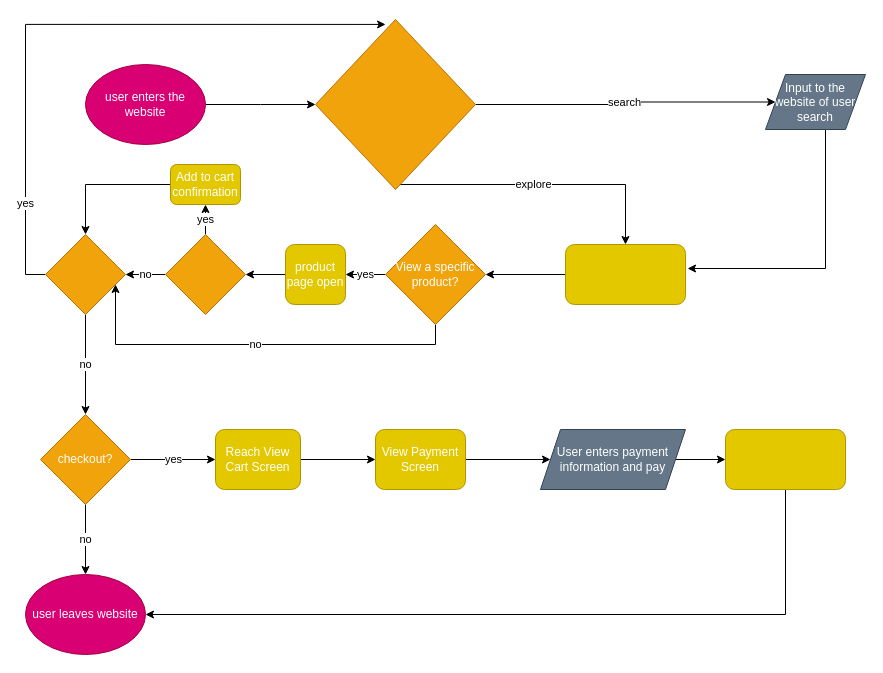
Image size: 883x673. Some labels were removed from this diagram. Each missing label, with the centre of its shape:
"Add to cart?" goes at point (205, 274).
"continue shopping?" goes at point (85, 274).
"Look over products" goes at point (625, 274).
"Search for a product or explore products on the home page" goes at point (395, 104).
"user sees order confimation screen and receives email" goes at point (785, 459).
